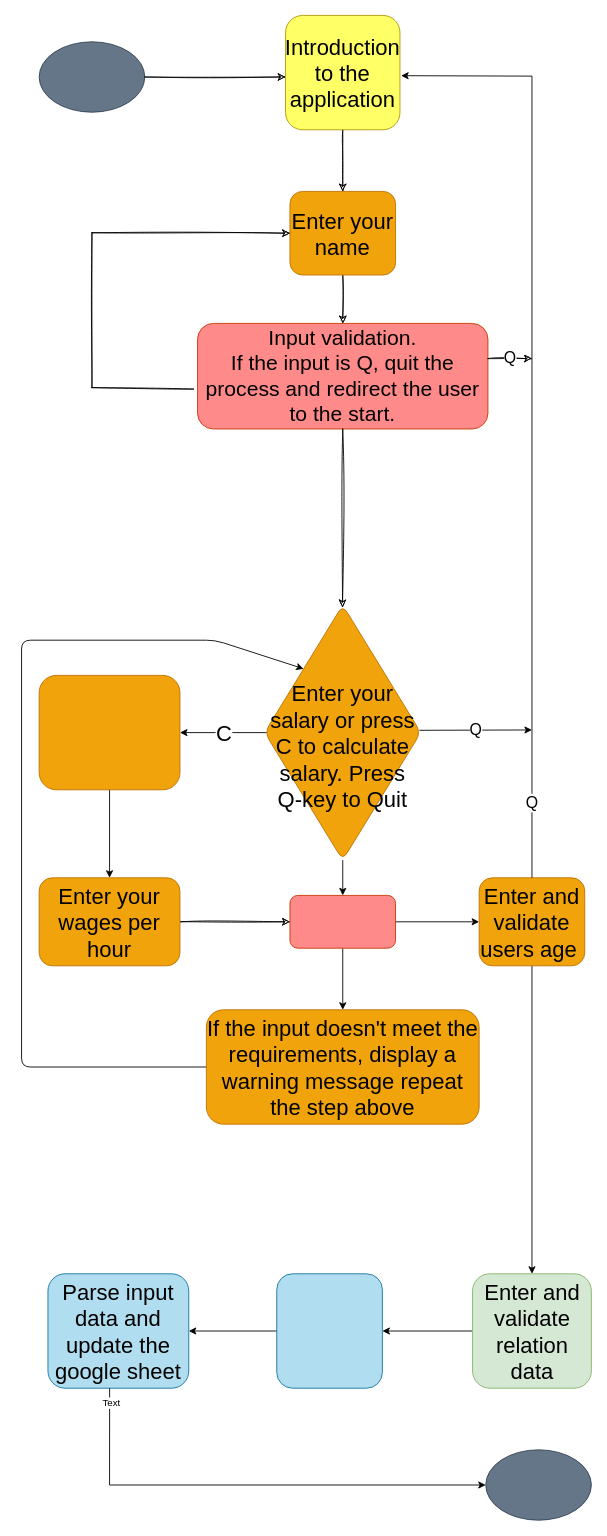
This 607x1536 diagram has some shape labels left out. Here are the shapes that lost their labels. From the top down, the centre of each, then its label:
the point at 91,76: Start
the point at 109,732: Enter the number of hours you work weekly
the point at 342,921: Validate input data
the point at 329,1330: Calculate salary and taxes
the point at 538,1484: End
